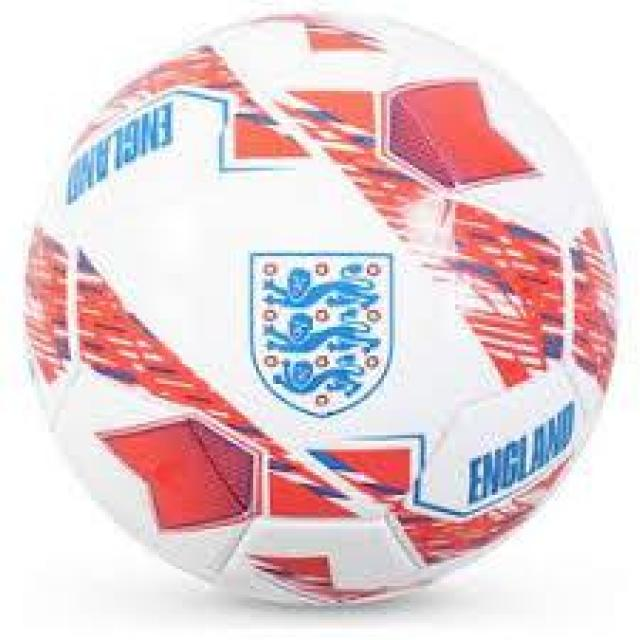ball: (2, 6, 634, 614)
